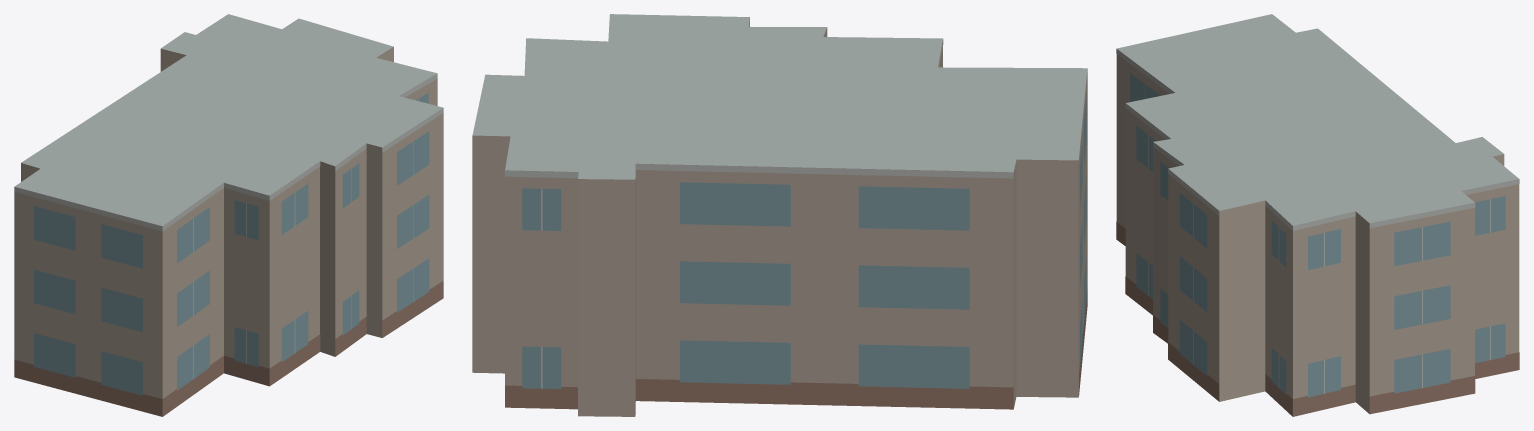
The model's file is survey-upis-32822791.glb.
3 views of the same model, side by side, from view 1: azimuth 30°, elevation 25°; view 2: azimuth 150°, elevation 25°; view 3: azimuth 270°, elevation 25° (orthographic). The views are drawn at different scales.
Visible parts, largest first — view 1: survey-upis-32822791.tmp; view 2: survey-upis-32822791.tmp; view 3: survey-upis-32822791.tmp.
Part boxes in pixels (x1,y1,x2,y2): survey-upis-32822791.tmp: [14, 14, 443, 416]; survey-upis-32822791.tmp: [472, 14, 1087, 416]; survey-upis-32822791.tmp: [1116, 14, 1519, 416].
Size of the model in its own units: 21.79 by 9.15 by 17.51.
